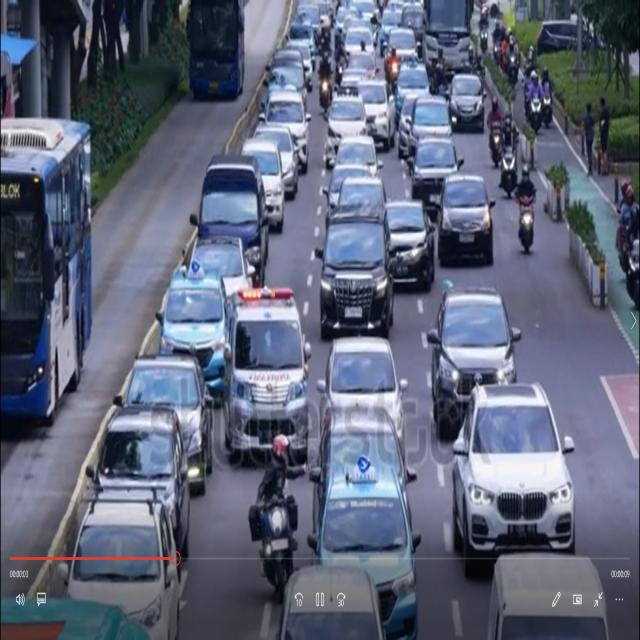Ambulance: (228, 284, 310, 476)
